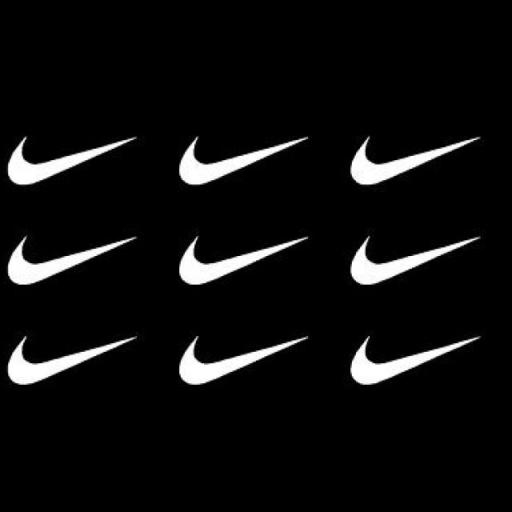Nike: (175, 233, 312, 290)
